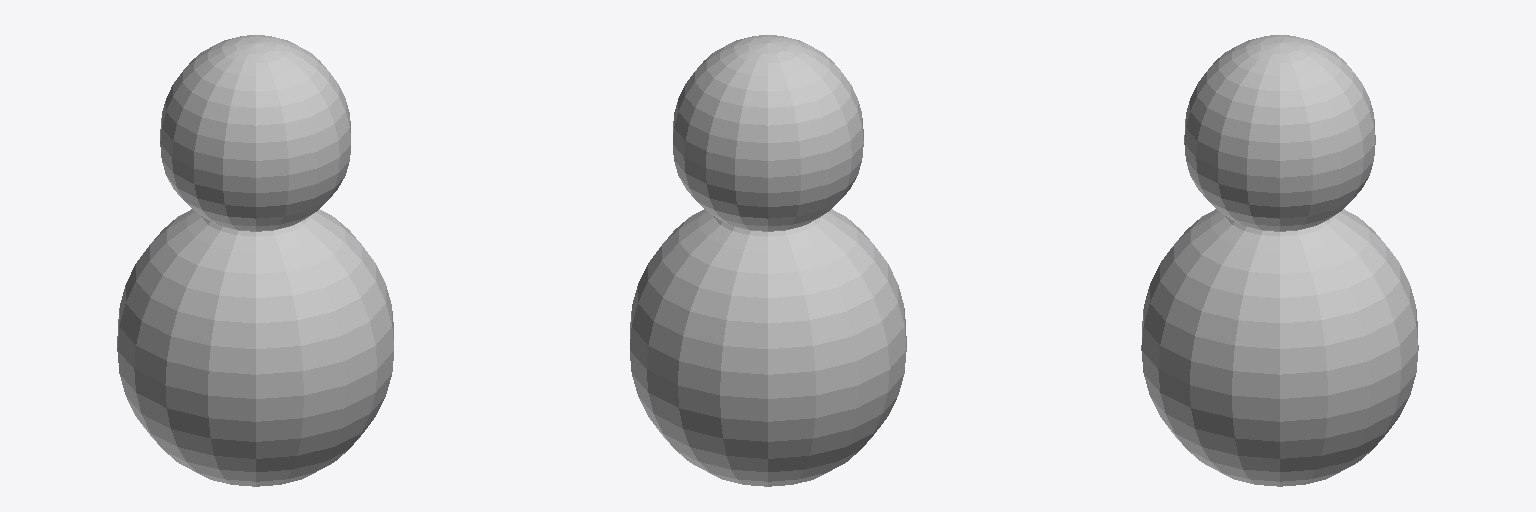
Rendered from Snowman.obj.
3 views of the same model, side by side, from view 1: azimuth 30°, elevation 25°; view 2: azimuth 150°, elevation 25°; view 3: azimuth 270°, elevation 25° (orthographic).
Size of the model in its own units: 2.68 by 4.49 by 2.65.